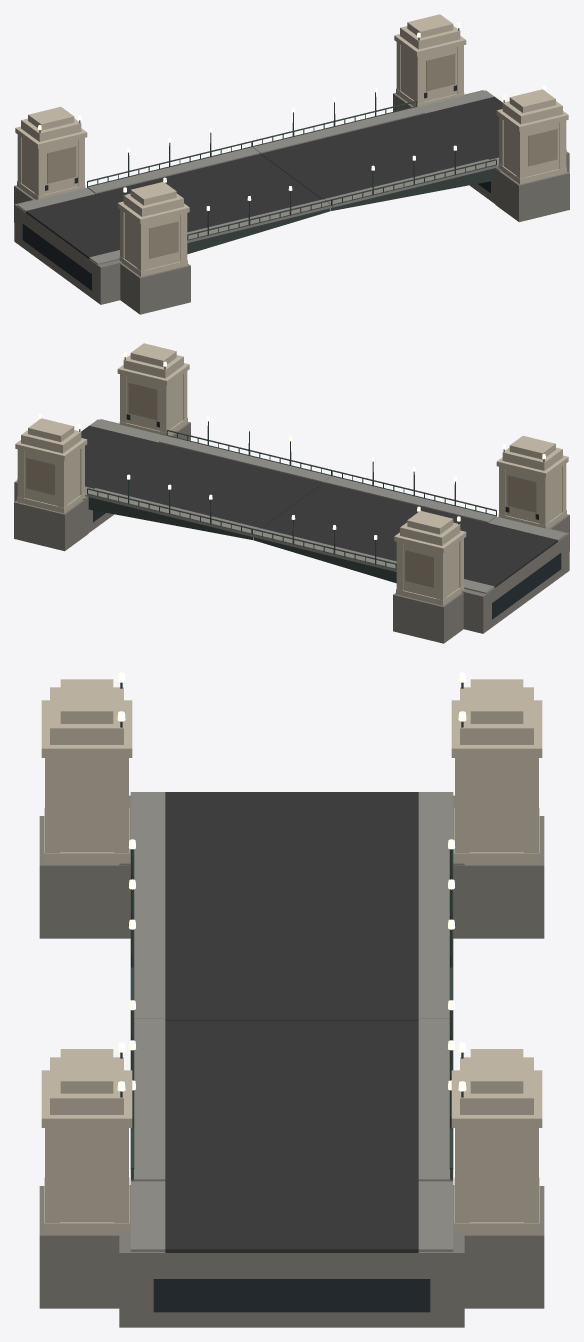
The model's file is dusable_bridge.glb.
3 renders of one model, top to bottom at view 1: azimuth 30°, elevation 25°; view 2: azimuth 150°, elevation 25°; view 3: azimuth 270°, elevation 25°, orthographic. The views are drawn at different scales.
Visible parts, largest first — view 1: bridge_fixed, leaf_e, leaf_w; view 2: bridge_fixed, leaf_e, leaf_w; view 3: bridge_fixed, leaf_e, leaf_w.
Boxes of the visible parts, x1,y1,x2,y2 form: bridge_fixed: [14, 14, 569, 314]; leaf_e: [252, 87, 496, 210]; leaf_w: [87, 127, 331, 254]; bridge_fixed: [14, 343, 569, 643]; leaf_e: [87, 416, 331, 539]; leaf_w: [252, 456, 496, 583]; bridge_fixed: [39, 672, 544, 1327]; leaf_e: [128, 1000, 455, 1181]; leaf_w: [128, 839, 455, 1020].
Bounding box in the file's own units: 94.1 × 21.15 × 43.8.
1 material, 1 textured.
